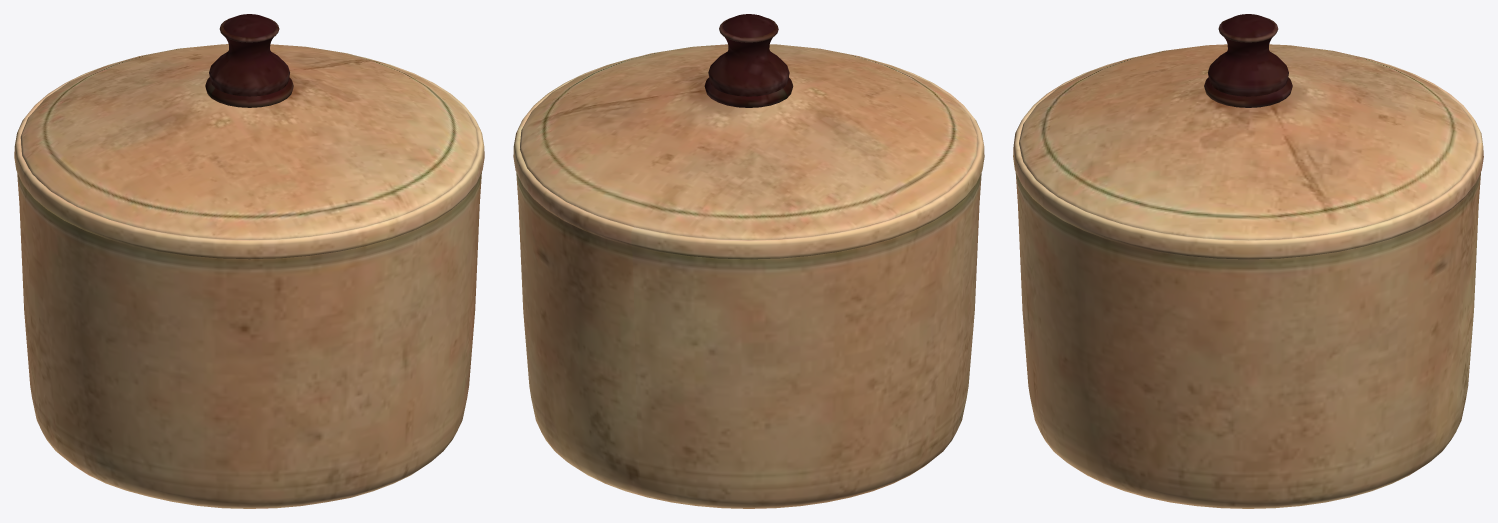
File: brass_pot_01.glb
The picture shows the model from 3 angles, left to right: view 1: azimuth 30°, elevation 25°; view 2: azimuth 150°, elevation 25°; view 3: azimuth 270°, elevation 25°; orthographic projection.
Visible parts, largest first — view 1: brass_pot_01; view 2: brass_pot_01; view 3: brass_pot_01.
Boxes of the visible parts, box(x1,y1,x2,y2) form: brass_pot_01: box(14, 14, 484, 508); brass_pot_01: box(513, 14, 984, 508); brass_pot_01: box(1013, 14, 1483, 508).
Bounding box in the file's own units: 0.3019 × 0.2909 × 0.3017.
1 material, 1 textured.
